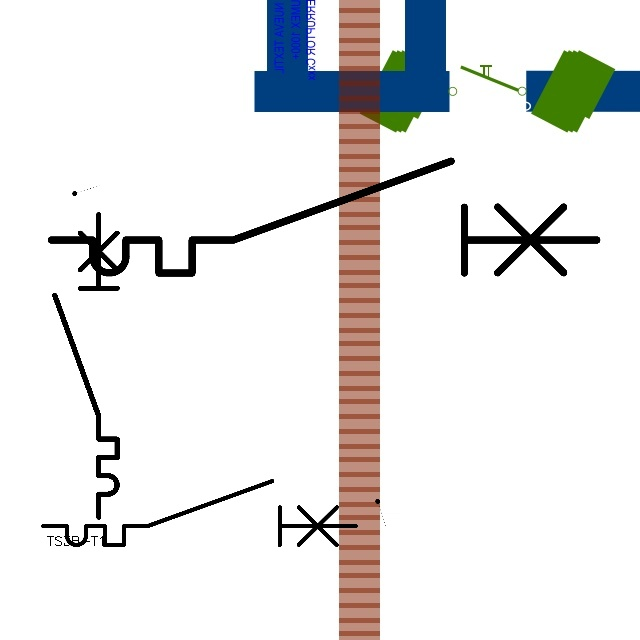interruptor_termomagnetico: (37, 147, 610, 287), (35, 473, 364, 553), (47, 207, 125, 525)
